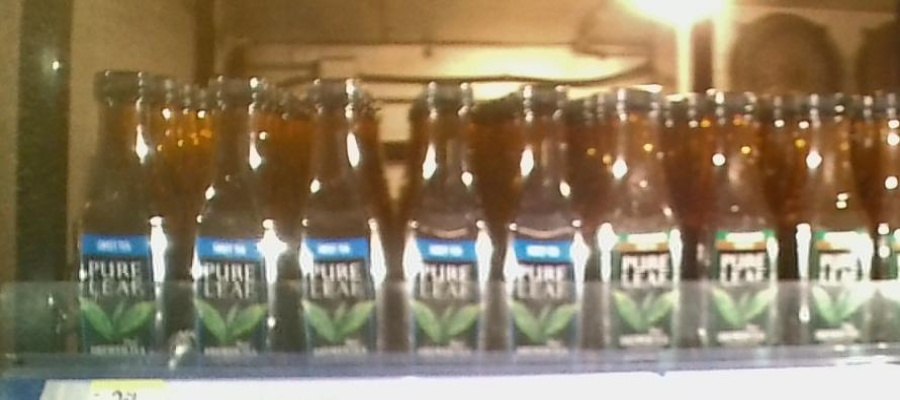bottle: (183, 68, 288, 376), (75, 62, 176, 377), (393, 73, 498, 371), (294, 70, 390, 372), (502, 75, 598, 371), (601, 77, 695, 370), (698, 84, 788, 369), (790, 91, 873, 364)
